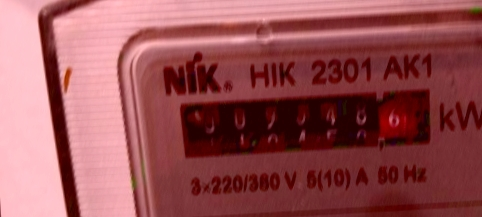0: (229, 105, 245, 129), (199, 107, 213, 134)
3: (290, 101, 305, 127)
4: (320, 99, 335, 127)
6: (382, 102, 400, 130)
8: (350, 98, 366, 127)
9: (259, 103, 275, 130)
screen: (167, 82, 440, 167)
